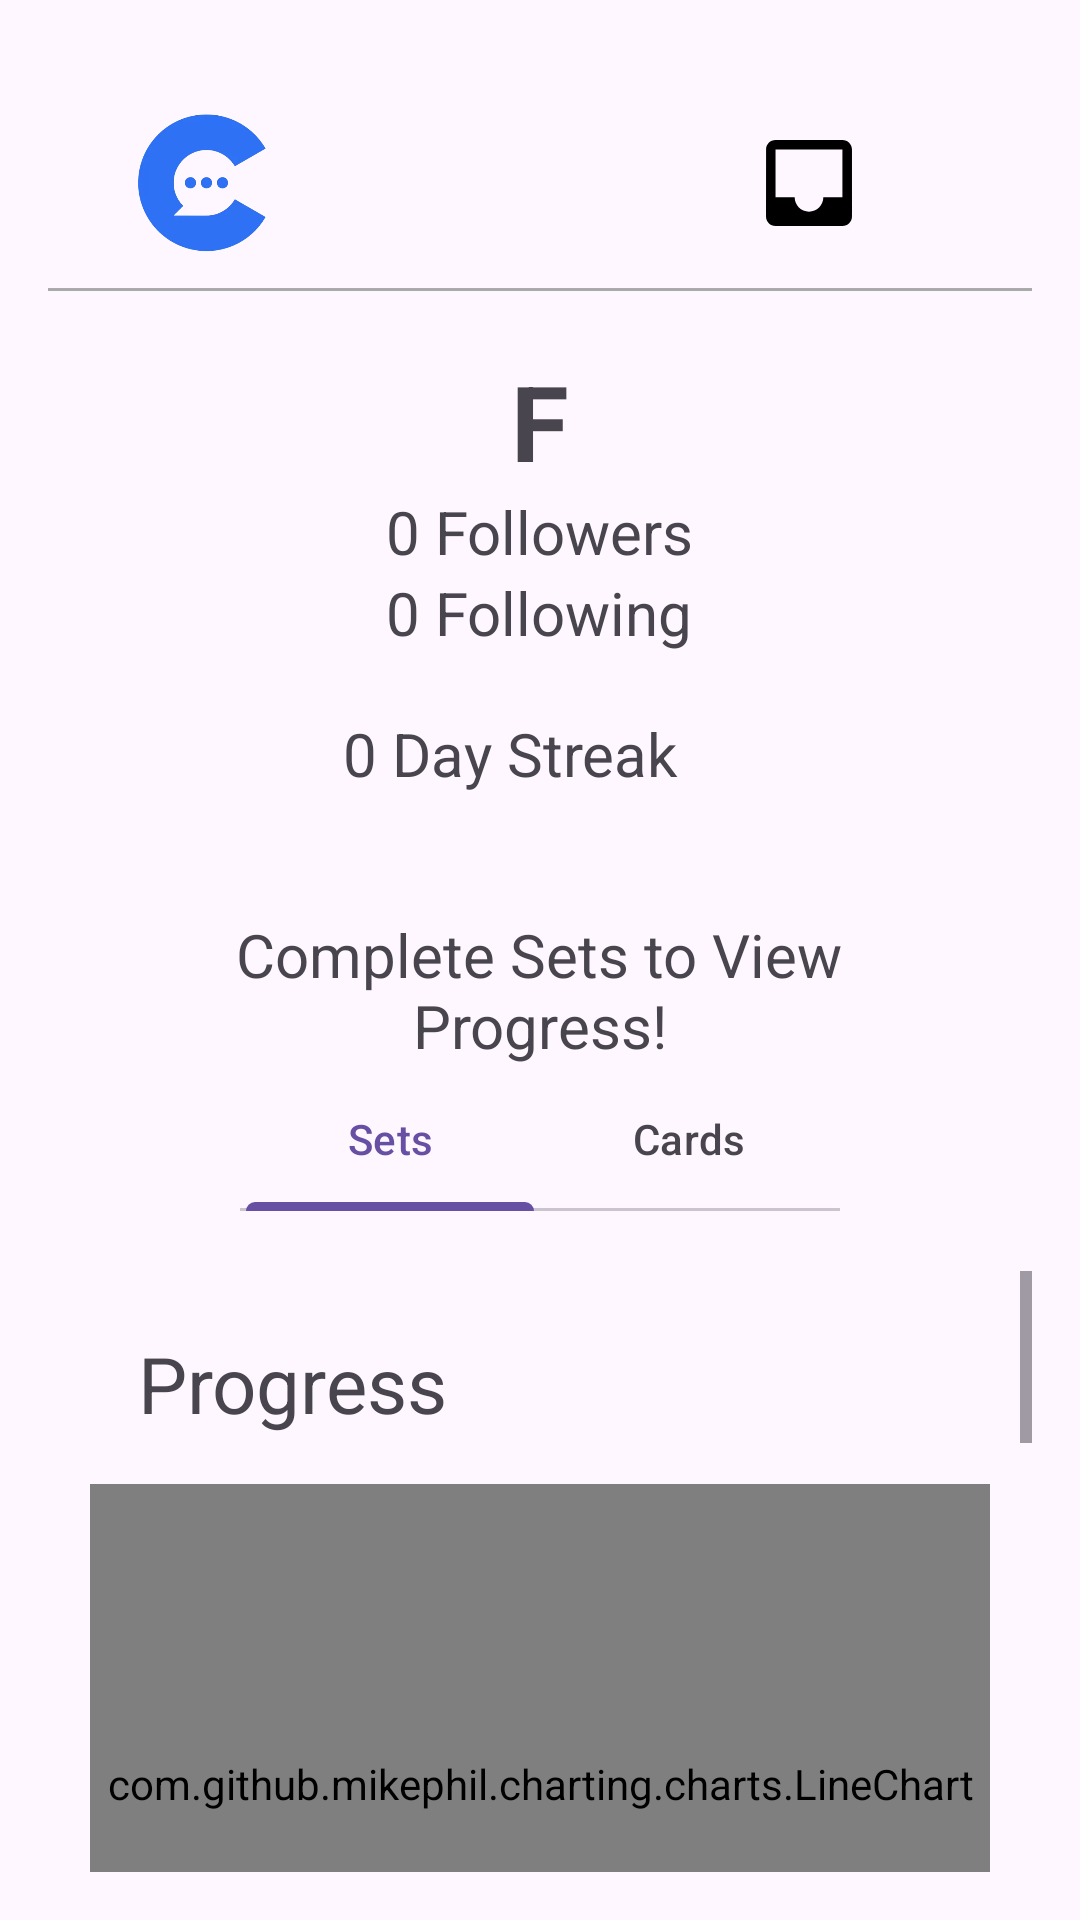

Icons on this 1080 x 1920 Android screen, each with its box as (x1, y1, x2, y2):
inbox: (766, 140, 852, 226)
